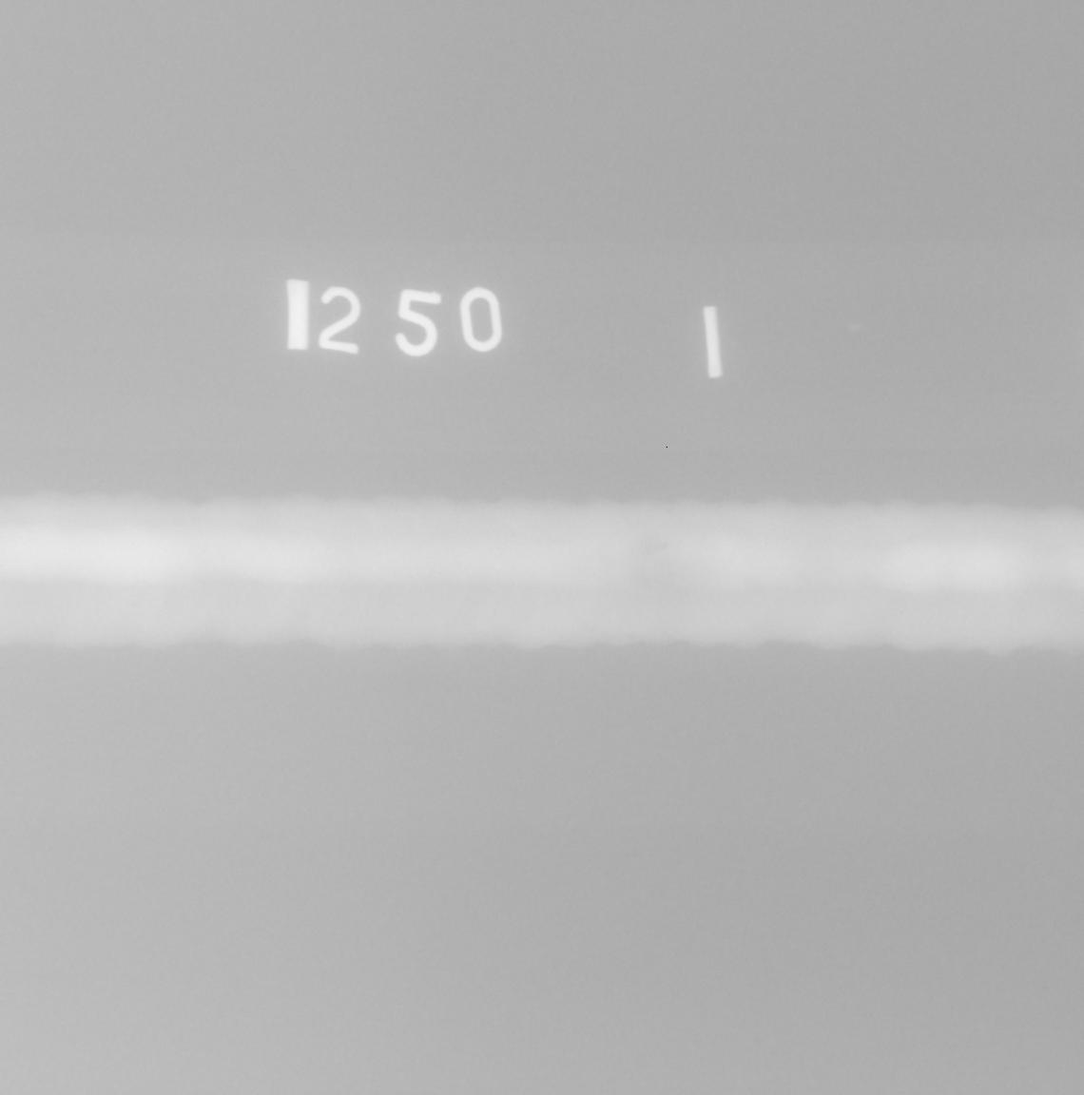Inclusion: (640, 541, 669, 556), (511, 529, 518, 540)
